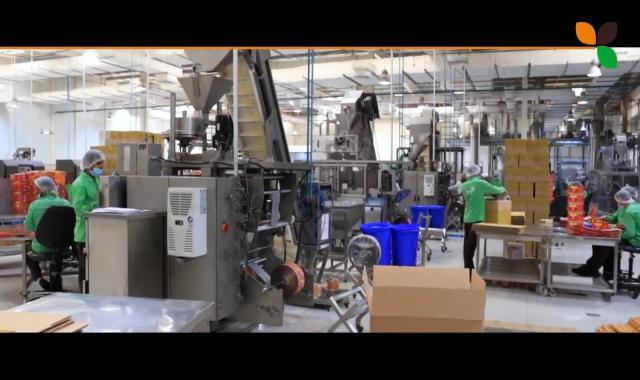Hairnet: (33, 178, 56, 192), (462, 164, 481, 177), (616, 189, 632, 203)
Mask: (83, 150, 103, 165), (88, 167, 102, 178)
No_Apron: (76, 178, 102, 241), (460, 182, 488, 225), (619, 208, 640, 246)
